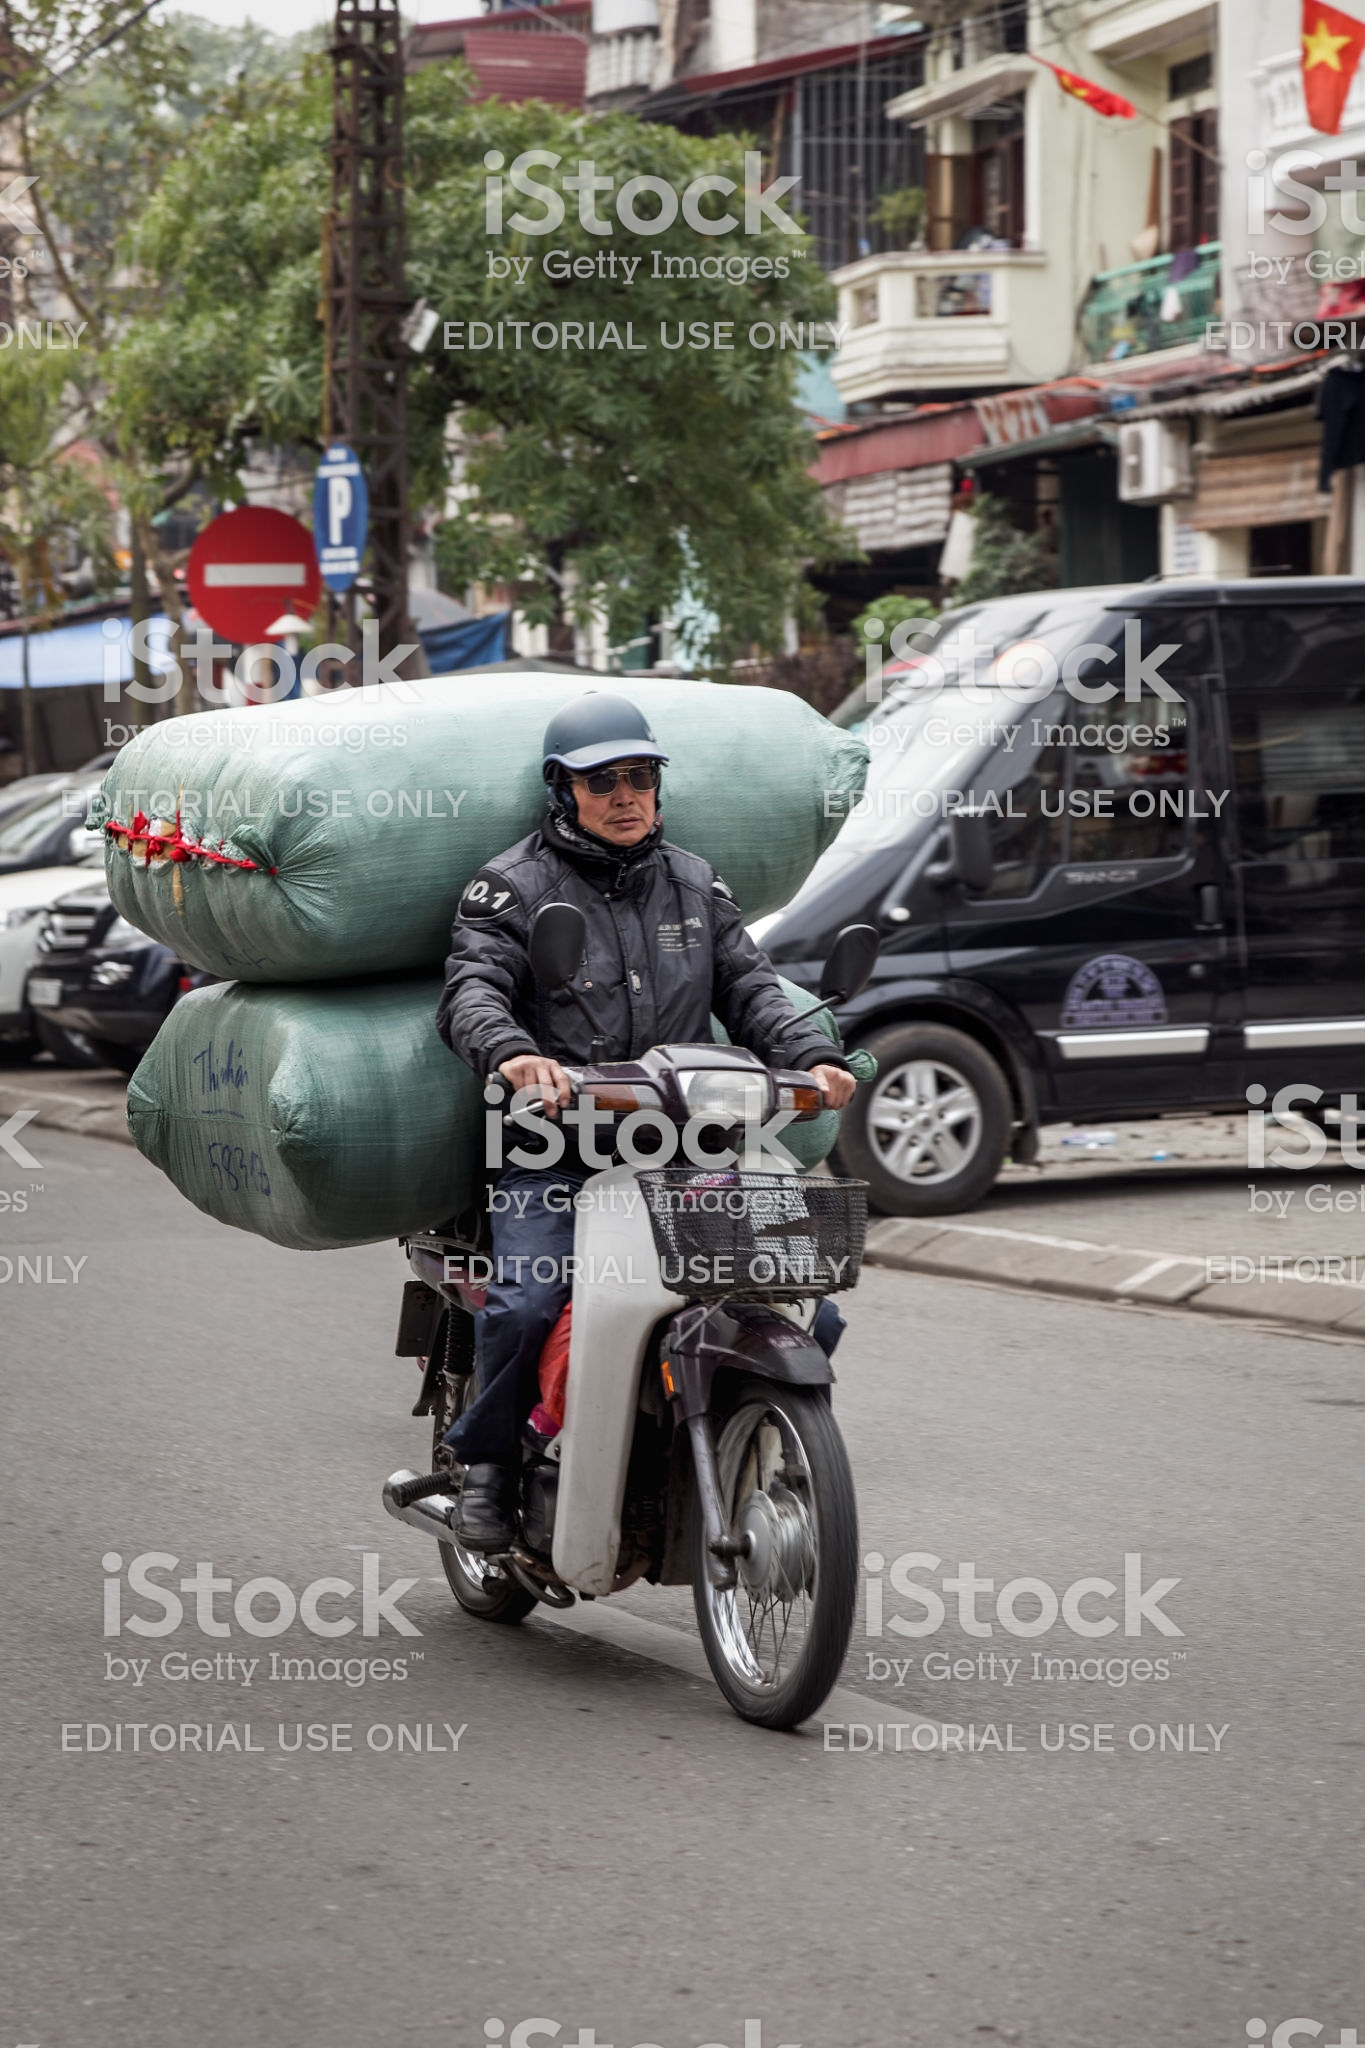helmet: (533, 687, 676, 764)
